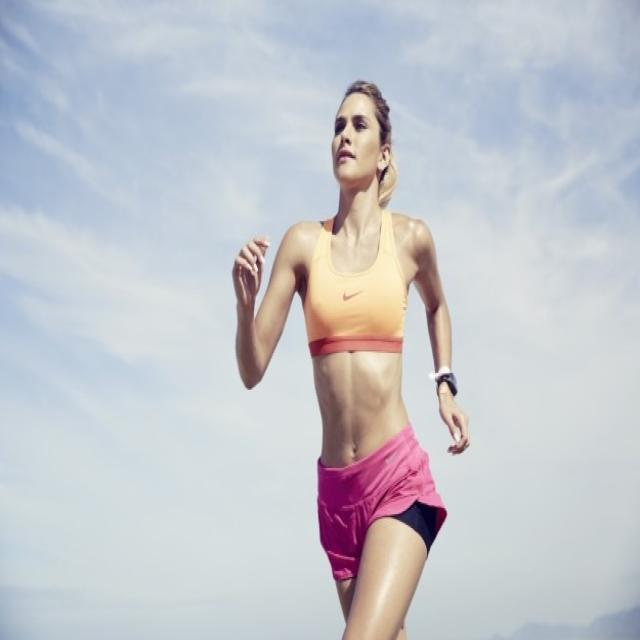nike: (331, 284, 368, 306)
